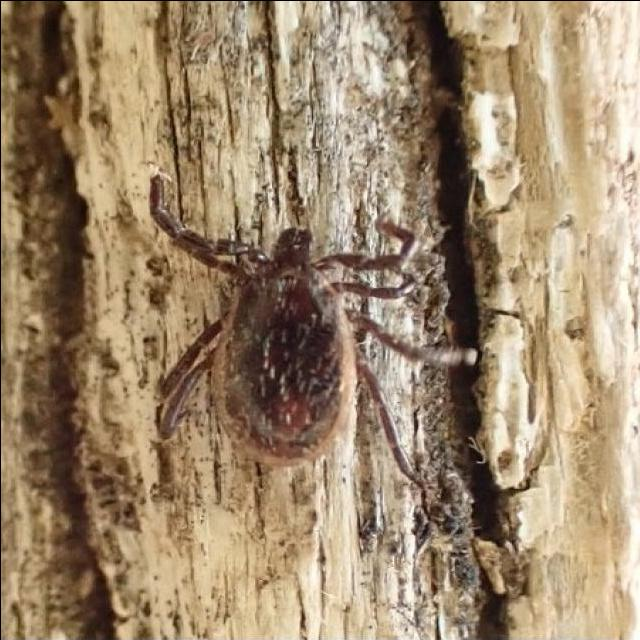Ixodes Ricinus-M: (148, 177, 451, 476)
